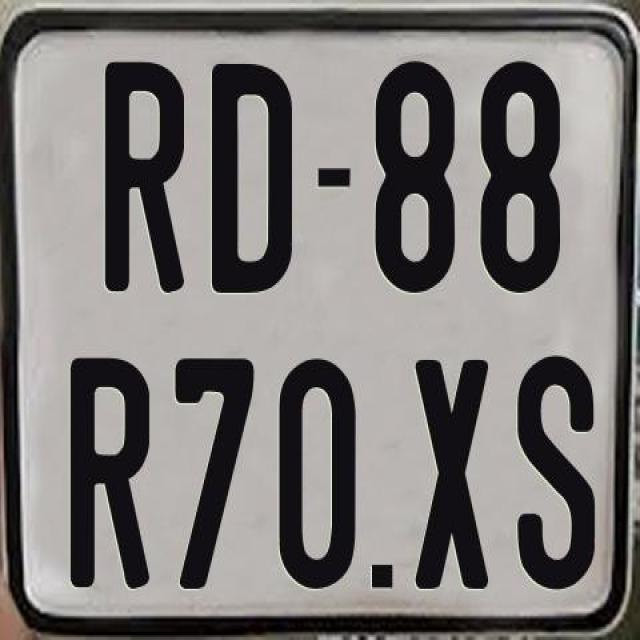0: (277, 357, 360, 597)
7: (172, 358, 254, 598)
8: (478, 56, 566, 288), (372, 59, 455, 294)
D: (210, 63, 294, 294)
S: (517, 356, 600, 588)
X: (412, 356, 494, 588)
